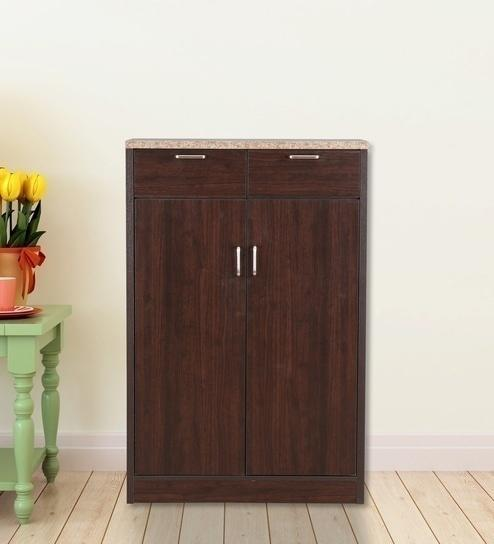cabinet_door: (251, 203, 358, 469), (141, 206, 246, 475), (249, 149, 358, 195), (137, 151, 247, 195)
handle: (174, 150, 207, 162), (287, 151, 320, 163), (234, 244, 245, 280), (249, 245, 259, 279)
